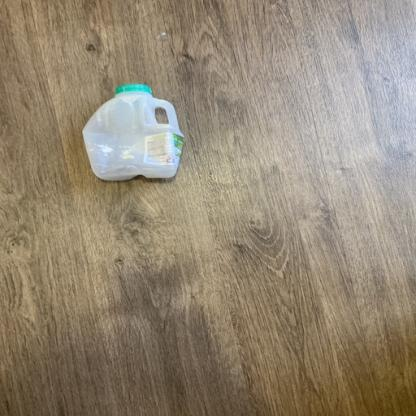trash: (76, 83, 188, 190)
